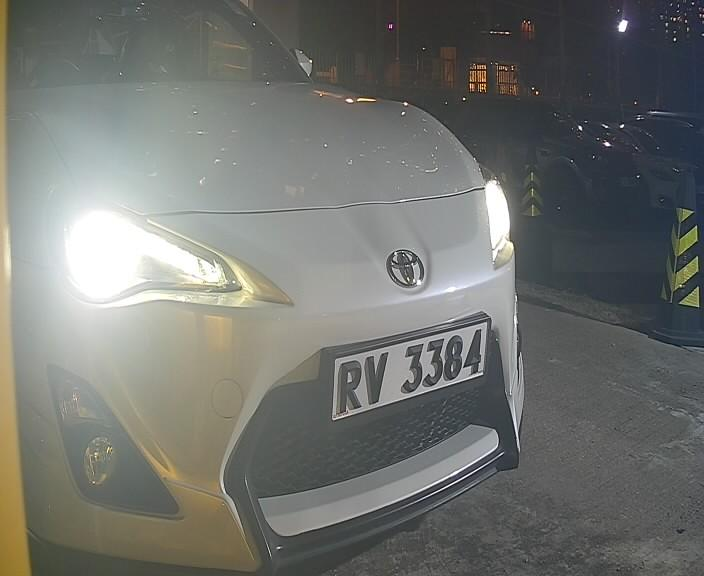Car: (4, 24, 579, 553)
License Plate: (312, 292, 503, 439)
